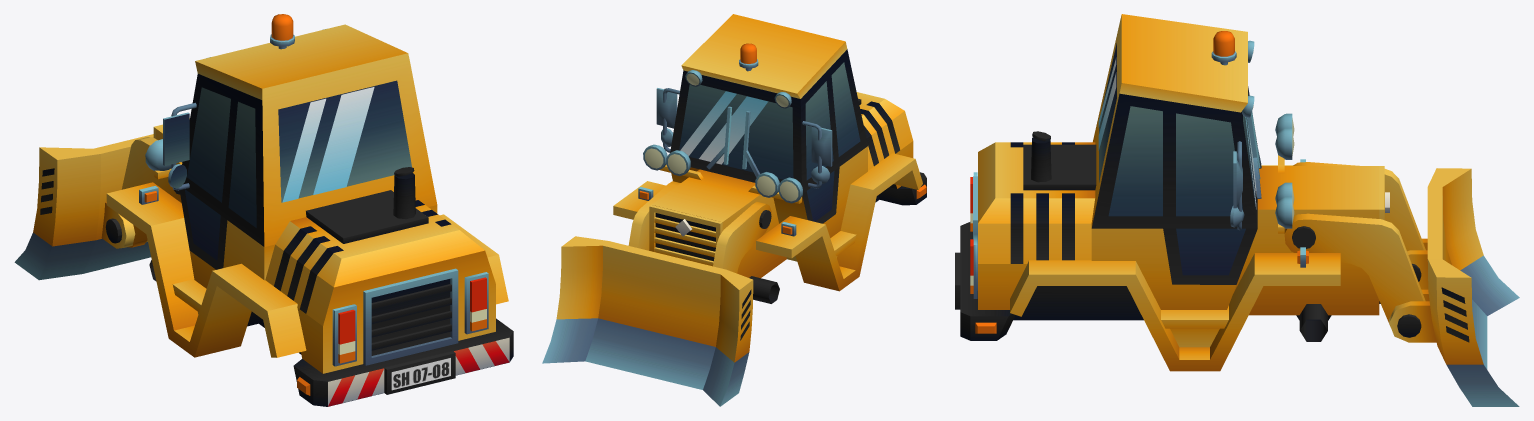
The model's file is car11.glb.
The picture shows the model from 3 angles, left to right: view 1: azimuth 30°, elevation 25°; view 2: azimuth 150°, elevation 25°; view 3: azimuth 270°, elevation 25°; orthographic projection. The views are drawn at different scales.
Parts seen in each view (by area): view 1: model_11.007; view 2: model_11.007; view 3: model_11.007.
Part boxes in pixels (x1,y1,x2,y2): model_11.007: (14, 14, 513, 406); model_11.007: (542, 14, 926, 406); model_11.007: (955, 14, 1519, 406).
Bounding box in the file's own units: 132 × 180 × 288.
1 material, 1 textured.
